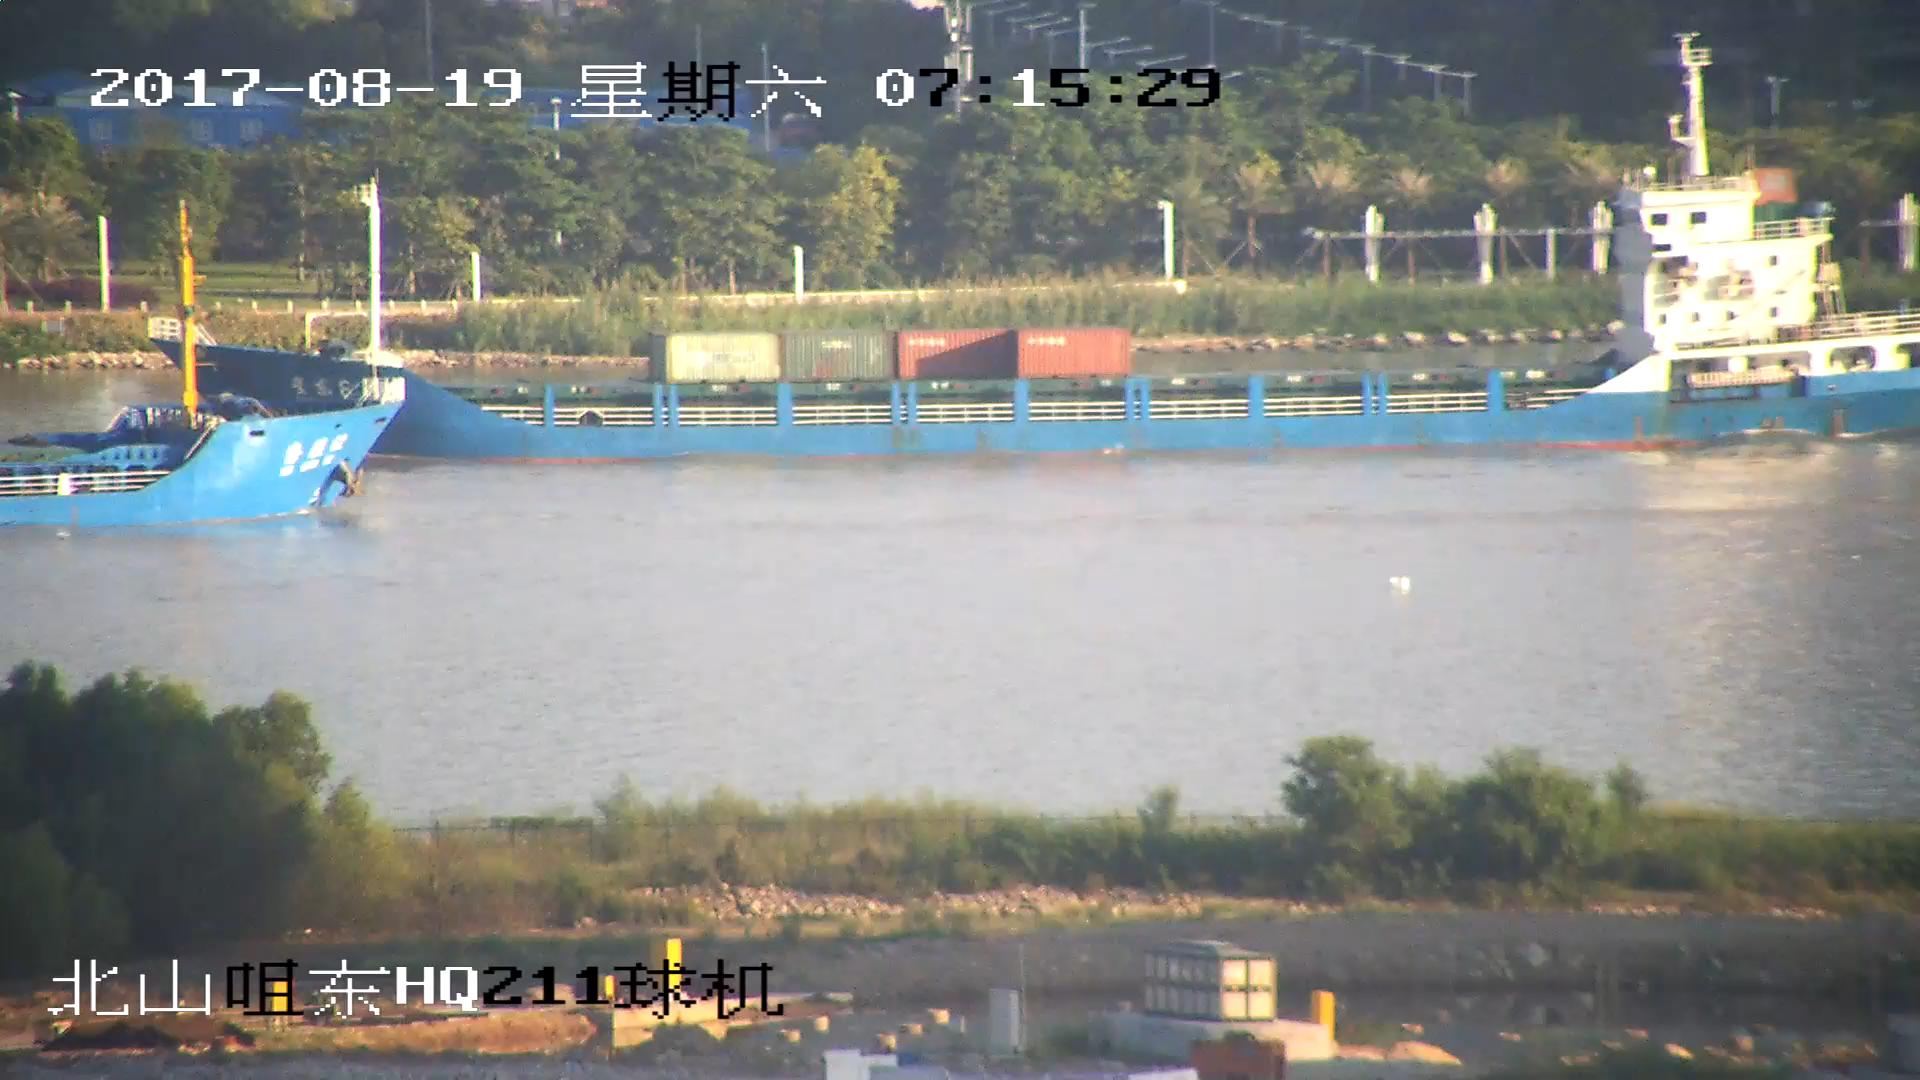general cargo ship: (149, 108, 1920, 458), (1, 176, 395, 525)
